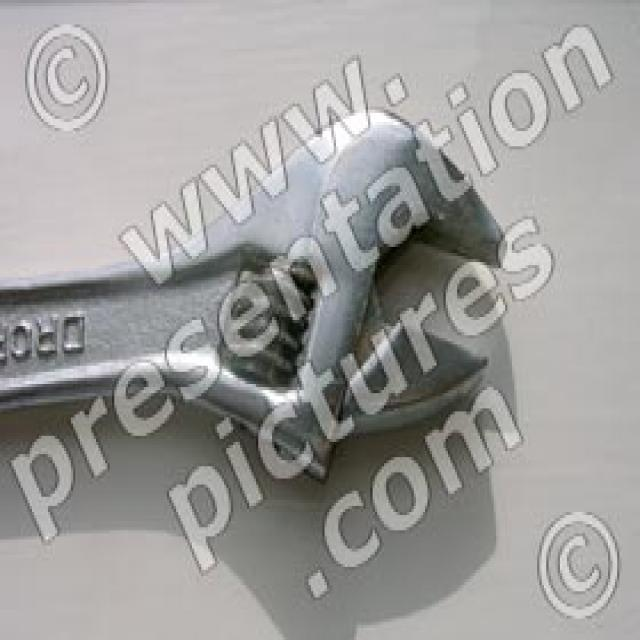wrench: (0, 97, 523, 493)
